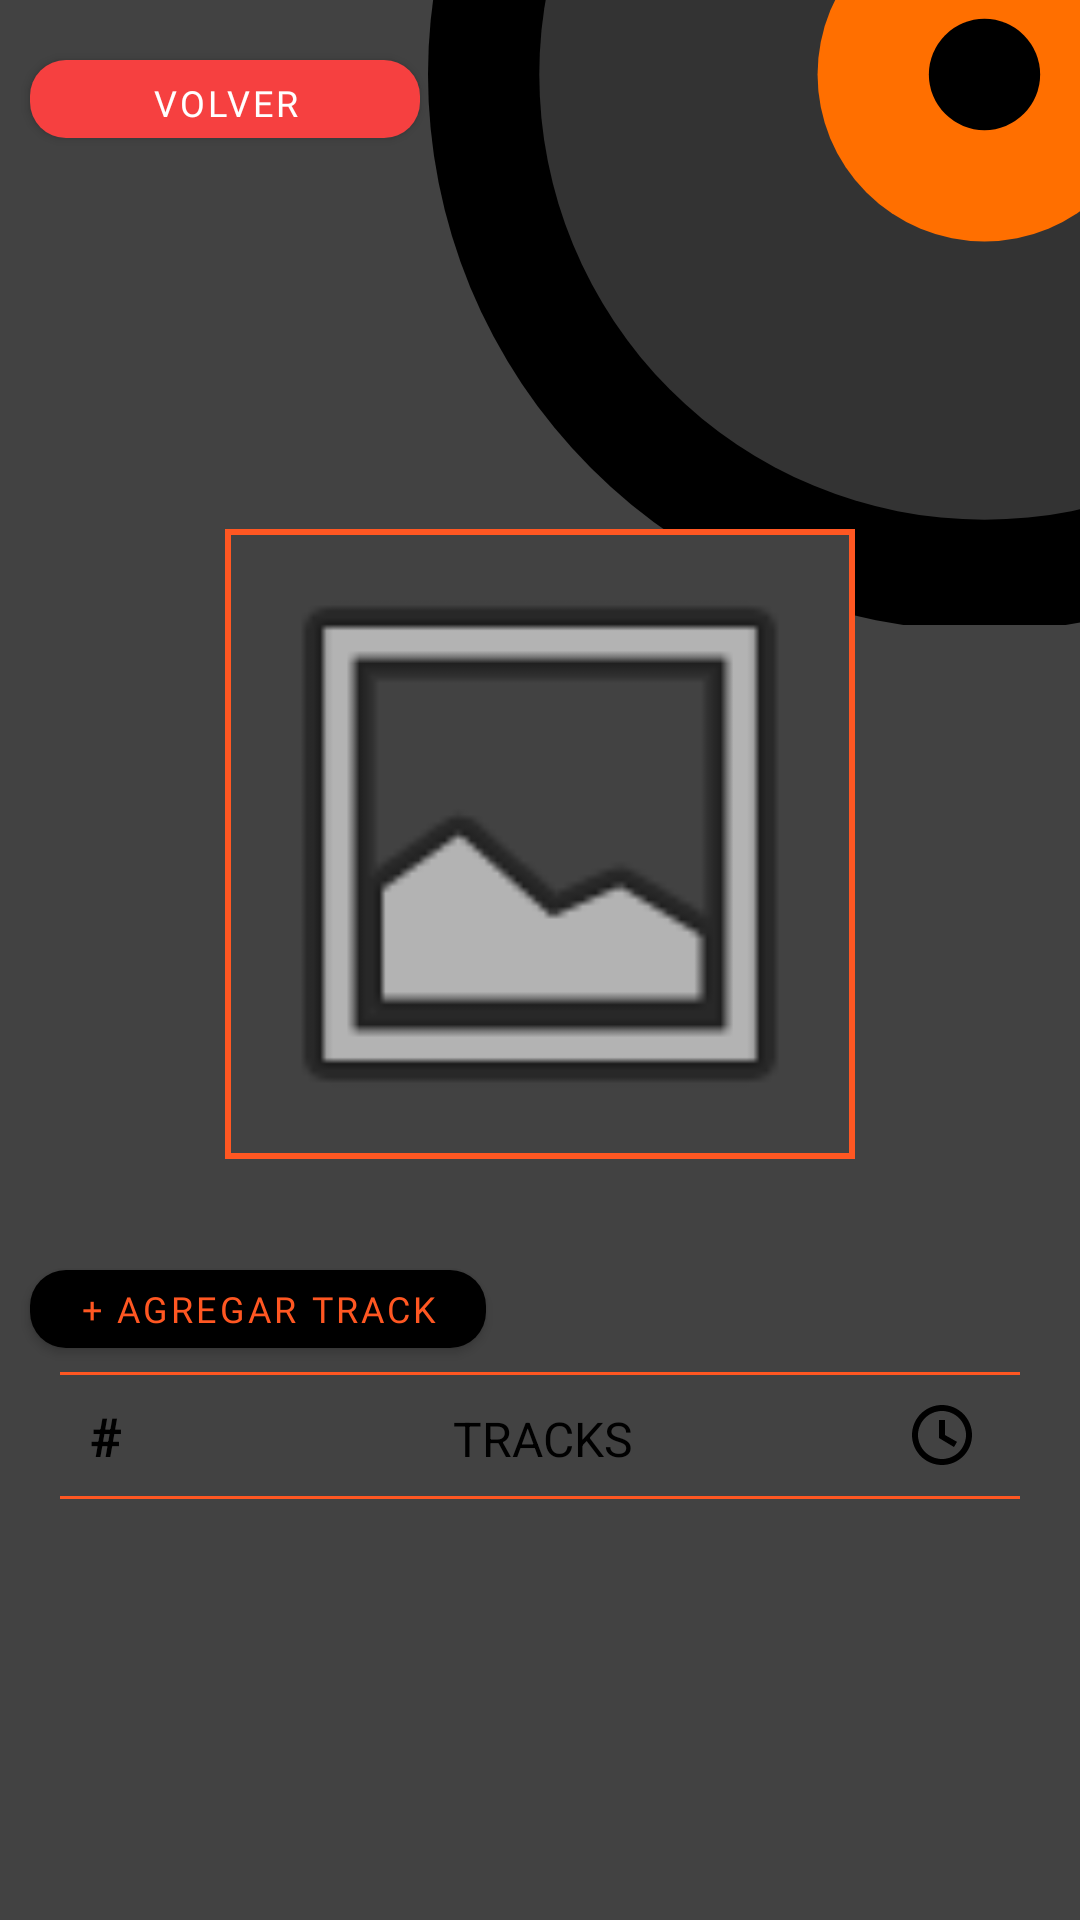

Icons on this 1080 × 1920 Android screen, each with the point to tap as [x,y]:
Duration: [942,1435]
